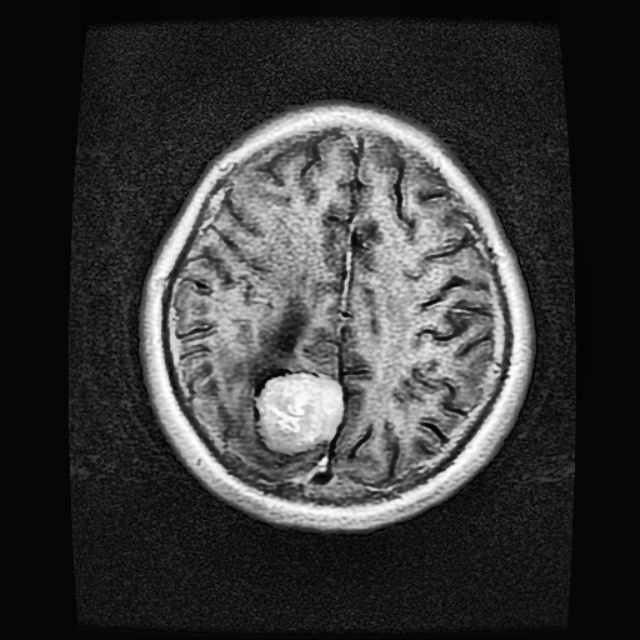Pituitary: (255, 372, 344, 454)
